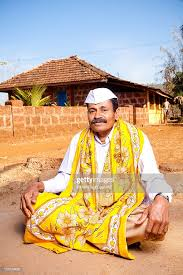Indian_Male: (82, 87, 112, 132)
